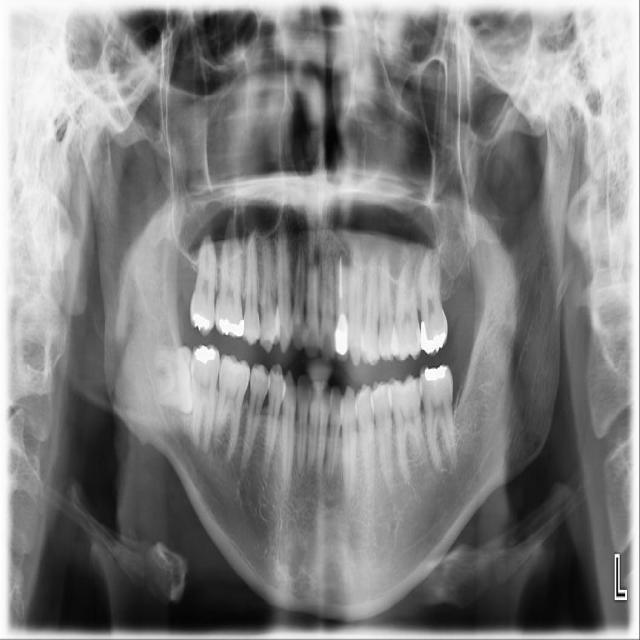52: (418, 363, 454, 411), (188, 285, 217, 338), (420, 306, 449, 357), (189, 343, 221, 389), (214, 291, 244, 338), (391, 316, 421, 361), (334, 315, 349, 360)
73: (334, 252, 347, 319), (590, 535, 596, 540)
BioHorizons Implant: (419, 238, 449, 357)
Blue Sky Bio Implant: (418, 363, 458, 473)
Caries: (189, 222, 218, 335)
Implant: (183, 342, 222, 452)
Keystone Dental Implant: (152, 345, 200, 415)
